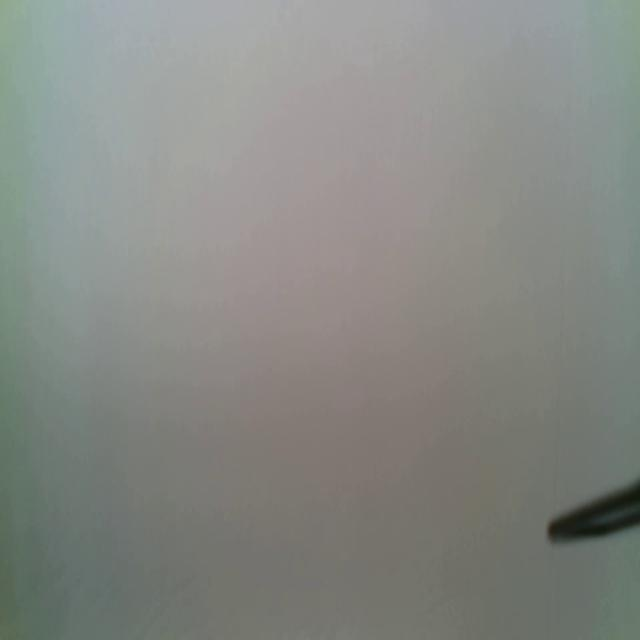crease: (551, 25, 571, 507)
